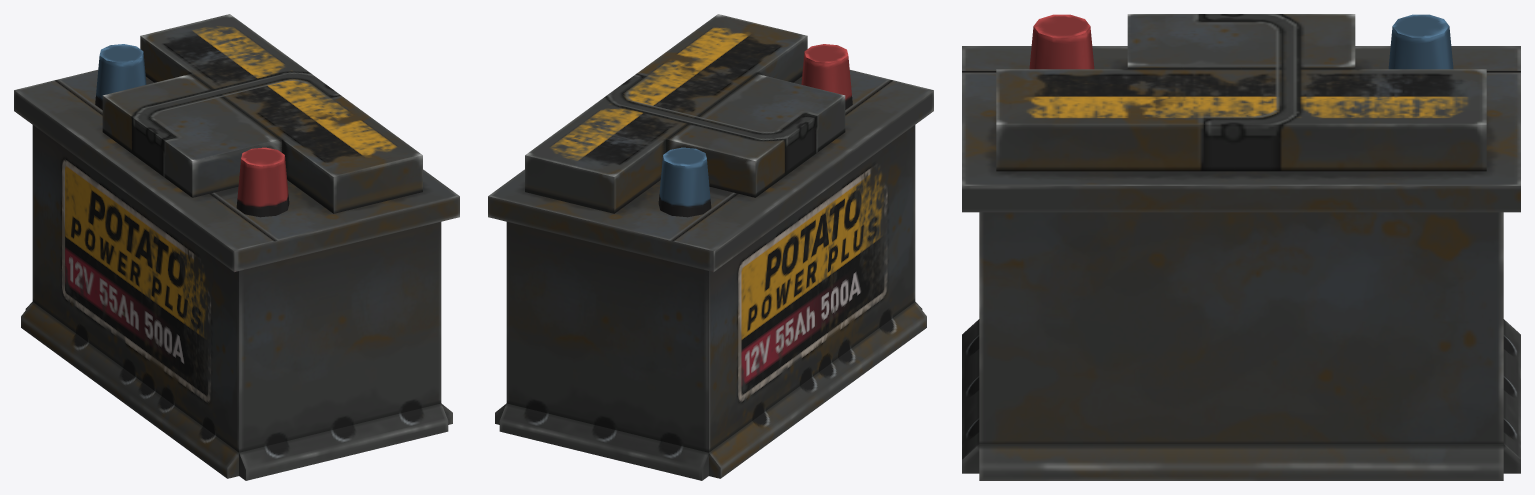
File: ITEM_carBattery.fbx
3 views of the same model, side by side, from view 1: azimuth 30°, elevation 25°; view 2: azimuth 150°, elevation 25°; view 3: azimuth 270°, elevation 25° (orthographic). The views are drawn at different scales.
Parts seen in each view (by area): view 1: ITEM_carBattery; view 2: ITEM_carBattery; view 3: ITEM_carBattery.
Part boxes in pixels (x1,y1,x2,y2): ITEM_carBattery: (14,14,459,480); ITEM_carBattery: (488,14,933,480); ITEM_carBattery: (962,14,1520,480).
Bounding box in the file's own units: 19.3 × 23 × 32.6.
